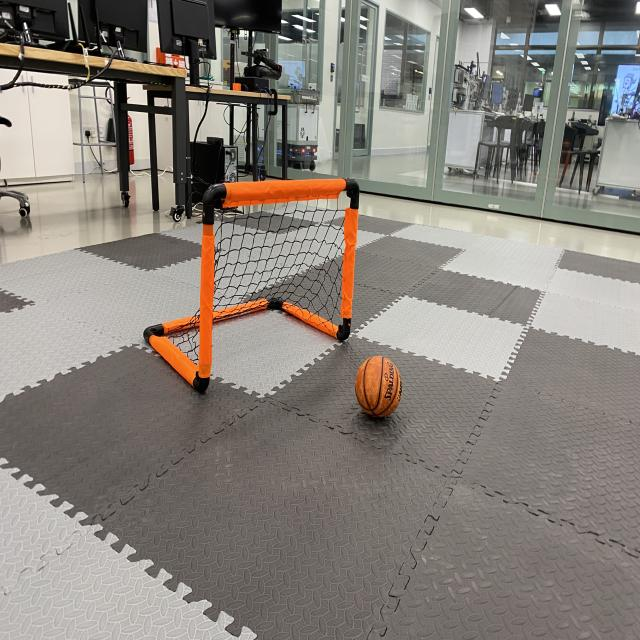ball: (351, 350, 408, 427)
gate: (140, 171, 364, 400)
